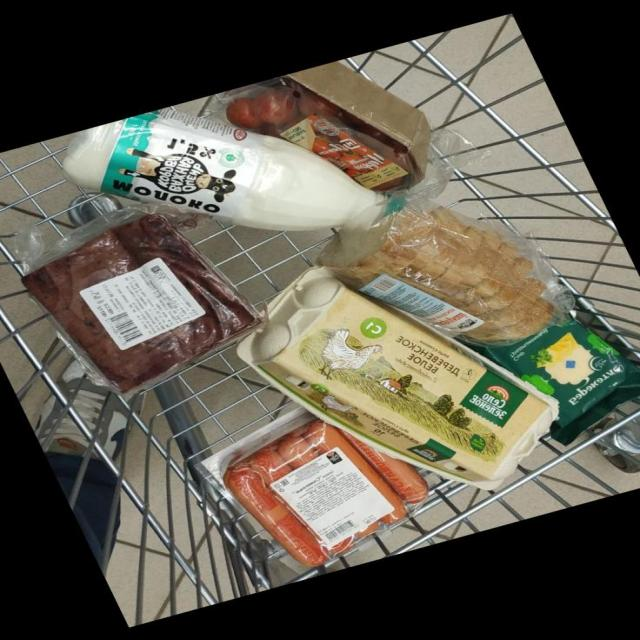Bread: (319, 199, 570, 344)
Cheese: (476, 319, 640, 444)
Eggs: (238, 266, 557, 489)
Meat: (16, 208, 262, 393)
Milk: (63, 108, 381, 230)
Sausages: (201, 407, 427, 566)
Tomatoes: (253, 87, 296, 124), (298, 88, 342, 117), (226, 97, 262, 129)
